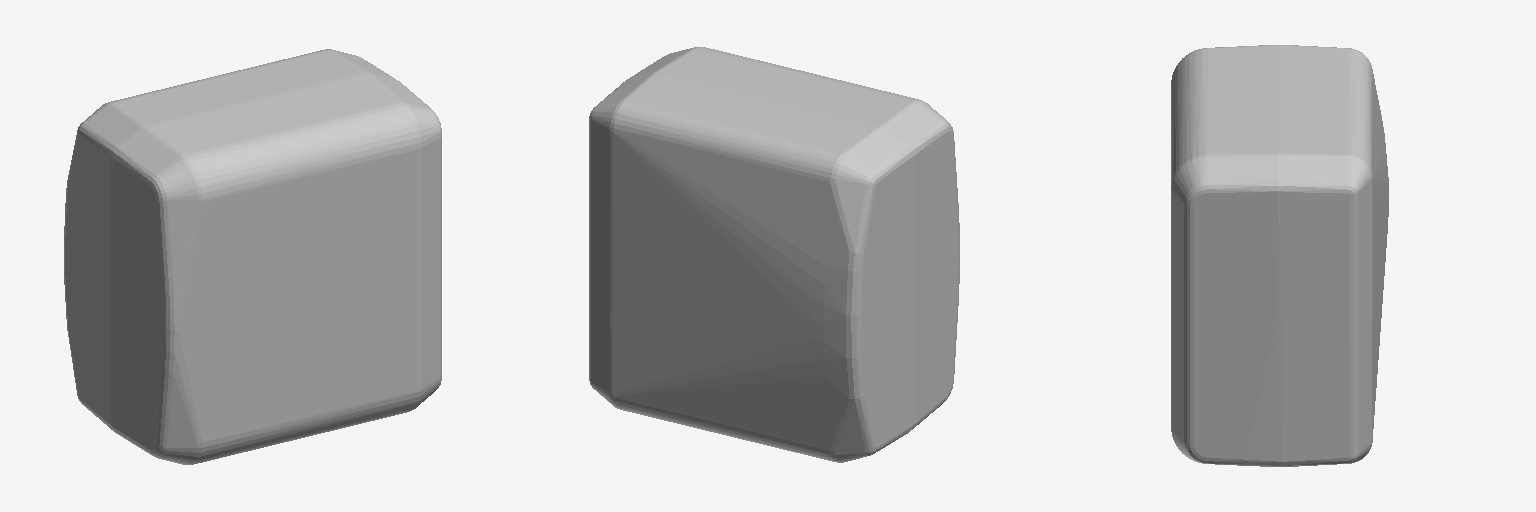
The model's file is gripper_link_collision.obj.
3 views of the same model, side by side, from view 1: azimuth 30°, elevation 25°; view 2: azimuth 150°, elevation 25°; view 3: azimuth 270°, elevation 25° (orthographic).
Size of the model in its own units: 0.122 by 0.1261 by 0.0795.